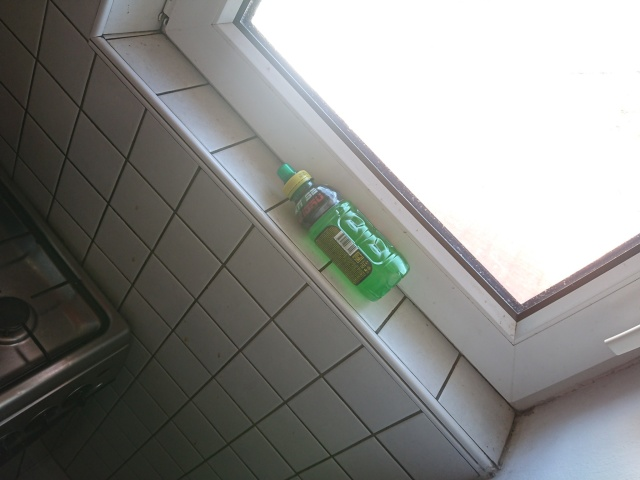Vindi Iso Sport Lemon-Grapefruit 500mL: (274, 161, 413, 305)
